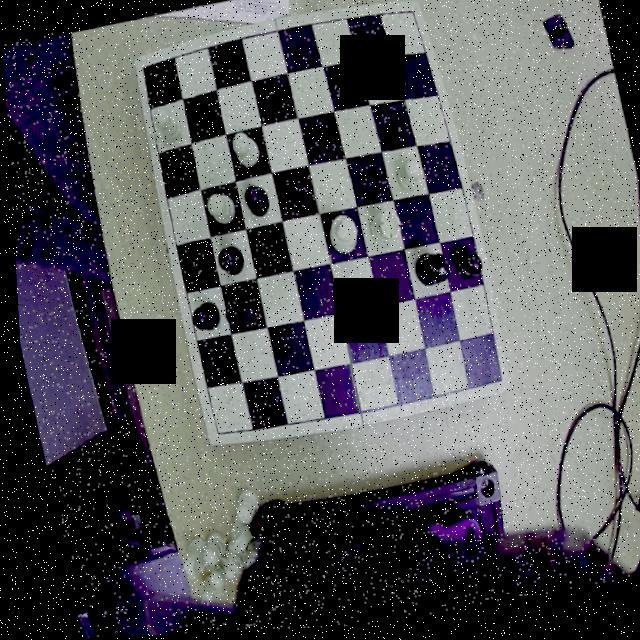chess-table-corners: (479, 368, 505, 397), (202, 422, 228, 448), (134, 56, 154, 86), (398, 3, 420, 28)
